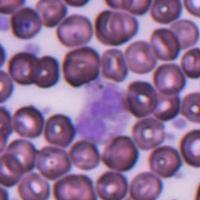N: (77, 81, 126, 143)
